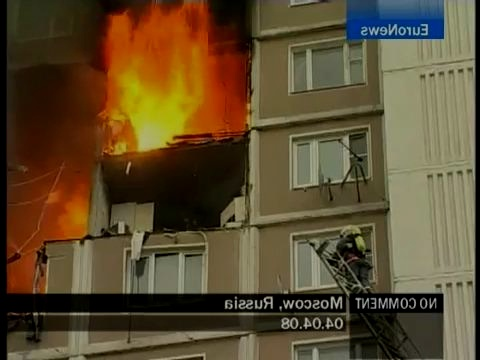fire: (96, 4, 244, 170), (25, 163, 94, 245)
smoke: (9, 45, 93, 157)
